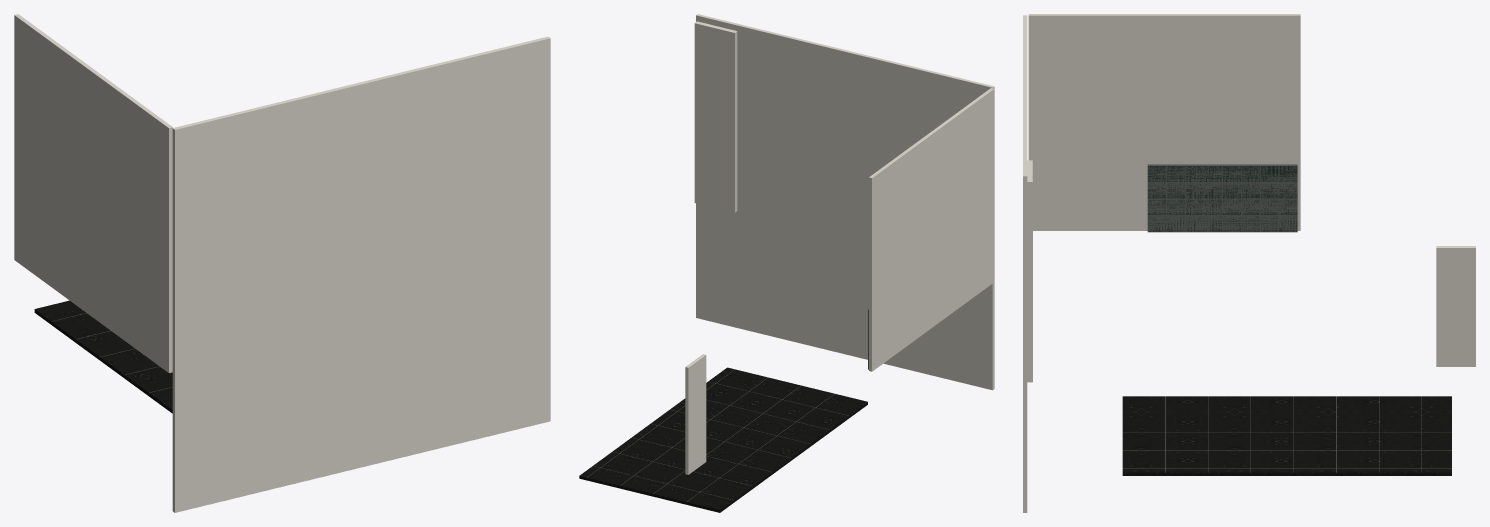
Rendered from cabinetry_shell__room_shell.glb.
3 renders of one model, left to right at view 1: azimuth 30°, elevation 25°; view 2: azimuth 150°, elevation 25°; view 3: azimuth 270°, elevation 25°, orthographic. The views are drawn at different scales.
Parts seen in each view (by area): view 1: rear_wall_plane, prep_backsplash_wall_plane, floor_extent; view 2: rear_wall_plane, prep_backsplash_wall_plane, floor_extent, sink_opening_end_wall, fridge_right_wall; view 3: prep_backsplash_wall_plane, floor_extent, green_tile_backsplash, fridge_right_wall, rear_wall_plane, sink_opening_end_wall.
Boxes of the visible parts, <box> form: rear_wall_plane: <box>172,36,550,512</box>; prep_backsplash_wall_plane: <box>14,14,172,372</box>; floor_extent: <box>34,300,172,413</box>; rear_wall_plane: <box>696,14,994,390</box>; prep_backsplash_wall_plane: <box>869,88,994,371</box>; floor_extent: <box>579,367,867,512</box>; sink_opening_end_wall: <box>694,21,737,212</box>; fridge_right_wall: <box>685,354,706,474</box>; prep_backsplash_wall_plane: <box>1028,14,1300,230</box>; floor_extent: <box>1122,396,1451,475</box>; green_tile_backsplash: <box>1147,164,1297,232</box>; fridge_right_wall: <box>1436,246,1475,366</box>; rear_wall_plane: <box>1023,15,1027,512</box>; sink_opening_end_wall: <box>1027,160,1032,382</box>.
Size of the model in its own units: 2.74 by 2.68 by 3.23.
Materials: 4 (2 with a texture image).
